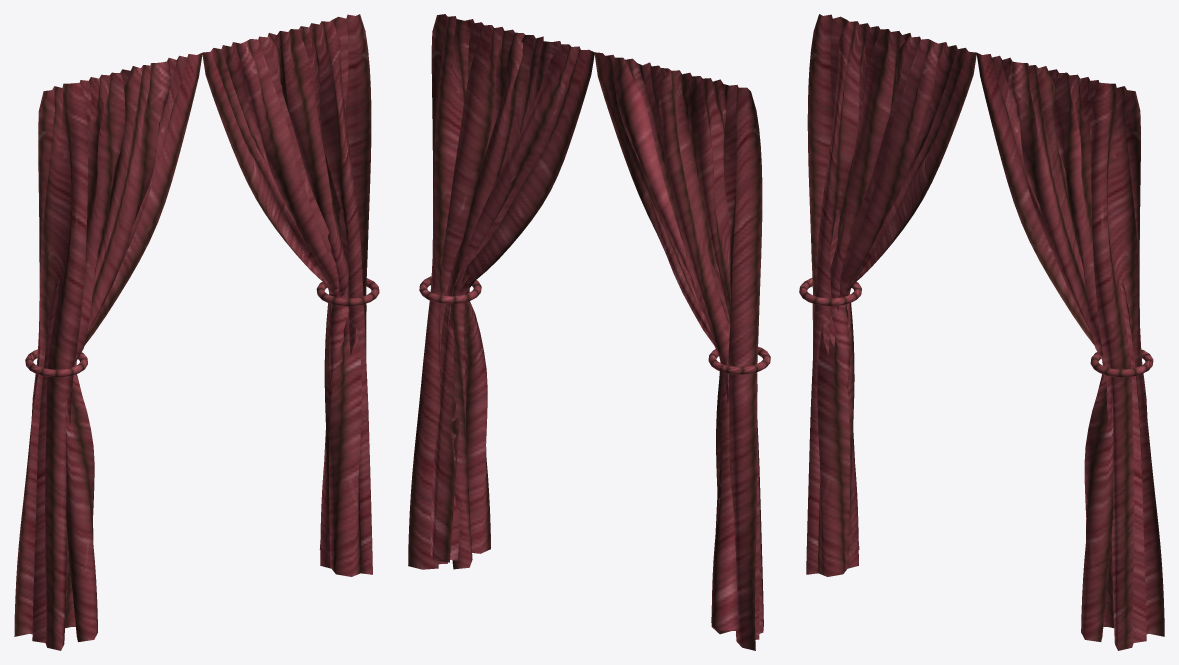
File: double_red_curtain.glb
3 views of the same model, side by side, from view 1: azimuth 30°, elevation 25°; view 2: azimuth 150°, elevation 25°; view 3: azimuth 330°, elevation 25° (orthographic).
Parts seen in each view (by area): view 1: M_Curtain; view 2: M_Curtain; view 3: M_Curtain.
Part boxes in pixels (x1=…): M_Curtain: x1=14, y1=14, x2=379, y2=650; M_Curtain: x1=408, y1=14, x2=770, y2=650; M_Curtain: x1=799, y1=14, x2=1164, y2=650.
Size of the model in its own units: 2.33 by 3.52 by 0.4276.
Materials: 1 (1 with a texture image).
